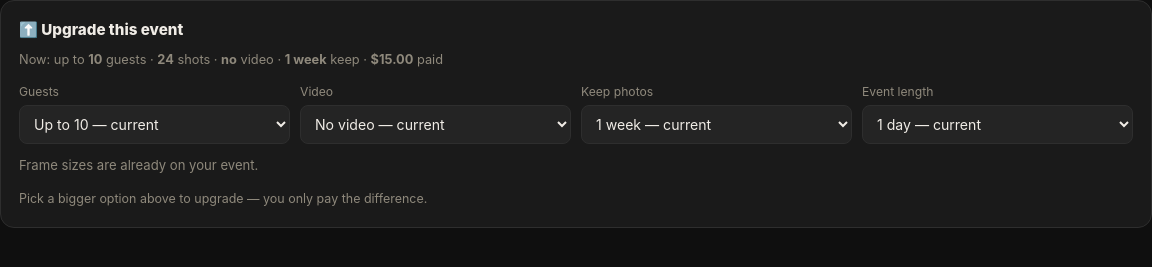
Test: the upgrade breakdown tells a host what they already have › stays away for a change that is already covered
Select "10s clips — free (normally +$5.00)" in the dropdown labelled "Video". click: (436, 125)
box: top-left (300, 105), bottom-right (571, 144)
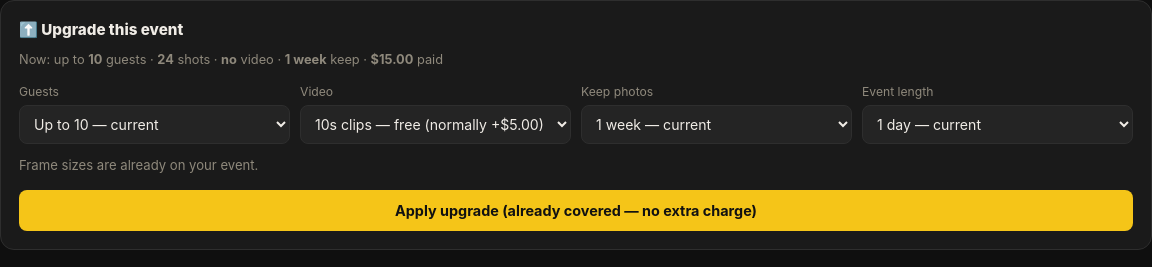
Expected: the text "already covered" is shown, top-left (19, 190), bottom-right (1133, 231)
